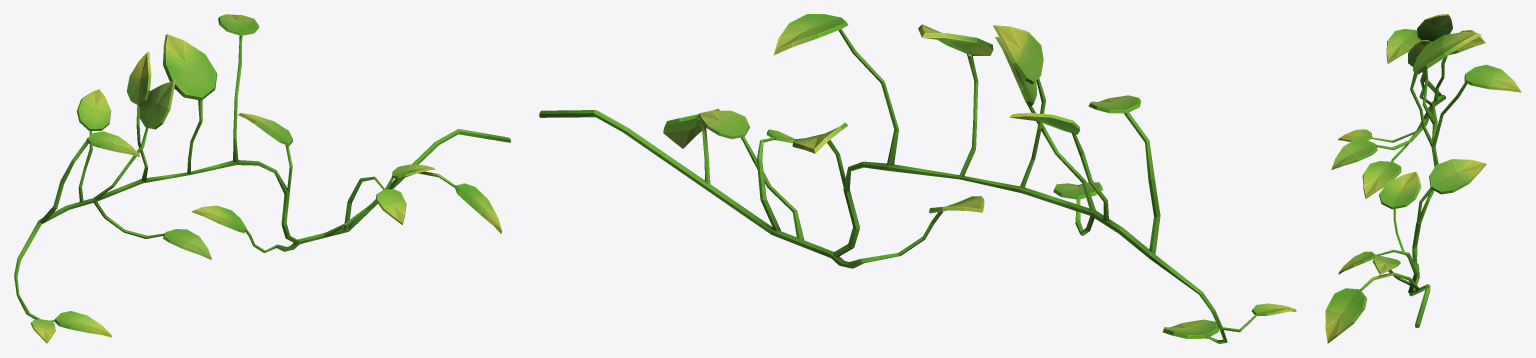
File: 37928e0b-7faf-4072-bc63-a639beab03af.glb
The picture shows the model from 3 angles, left to right: view 1: azimuth 30°, elevation 25°; view 2: azimuth 150°, elevation 25°; view 3: azimuth 270°, elevation 25°; orthographic projection. The views are drawn at different scales.
Parts seen in each view (by area): view 1: Vines_mesh; view 2: Vines_mesh; view 3: Vines_mesh.
Boxes of the visible parts, x1,y1,x2,y2 form: Vines_mesh: (14, 14, 510, 343); Vines_mesh: (539, 14, 1296, 343); Vines_mesh: (1325, 14, 1521, 343).
Bounding box in the file's own units: 13.72 × 6.04 × 4.84.
1 material, 1 textured.
